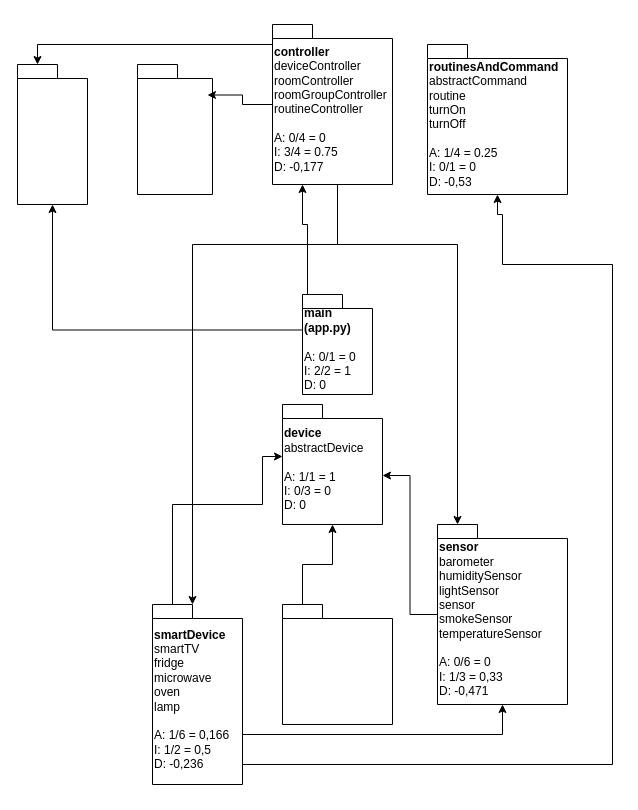
Image size: 638x810. Some labels were removed from this diagram. Each missing label, with the centre of its shape:
building house room roomgroup A: 0/2 = 0 I: 0/2= 0 D: -0,707: [52,134]
connection bluetooth connection wlan A: 1/3 = 0.33 I: 0/1 = 0 D: -0,474: [174,129]
connectionDevice connectionDevice router A: 1/2 = 0,5 I: 1/1 = 1 D: 0,354: [337,664]
